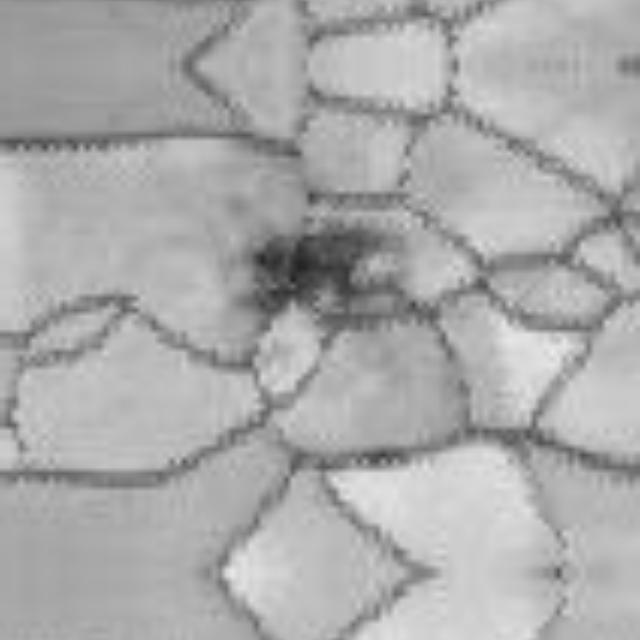good_void: (247, 223, 402, 339)
